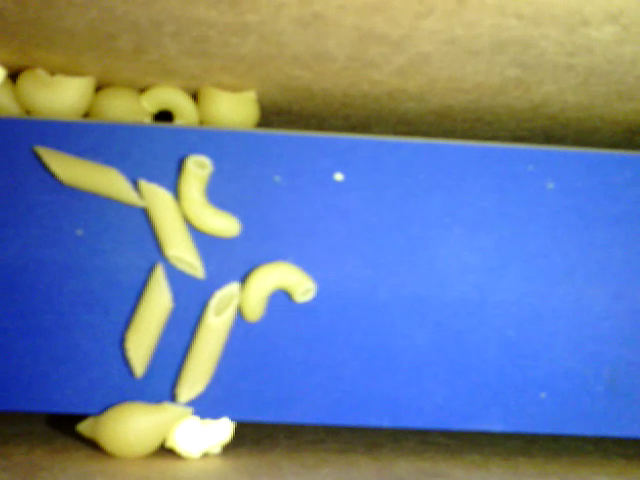elbow: (178, 153, 240, 235), (238, 260, 317, 322), (139, 83, 202, 124)
penne: (174, 279, 240, 404), (139, 176, 205, 280), (34, 144, 141, 205), (121, 260, 175, 380)
shell: (77, 399, 196, 458), (15, 68, 95, 118), (194, 82, 258, 132), (91, 84, 153, 122)
